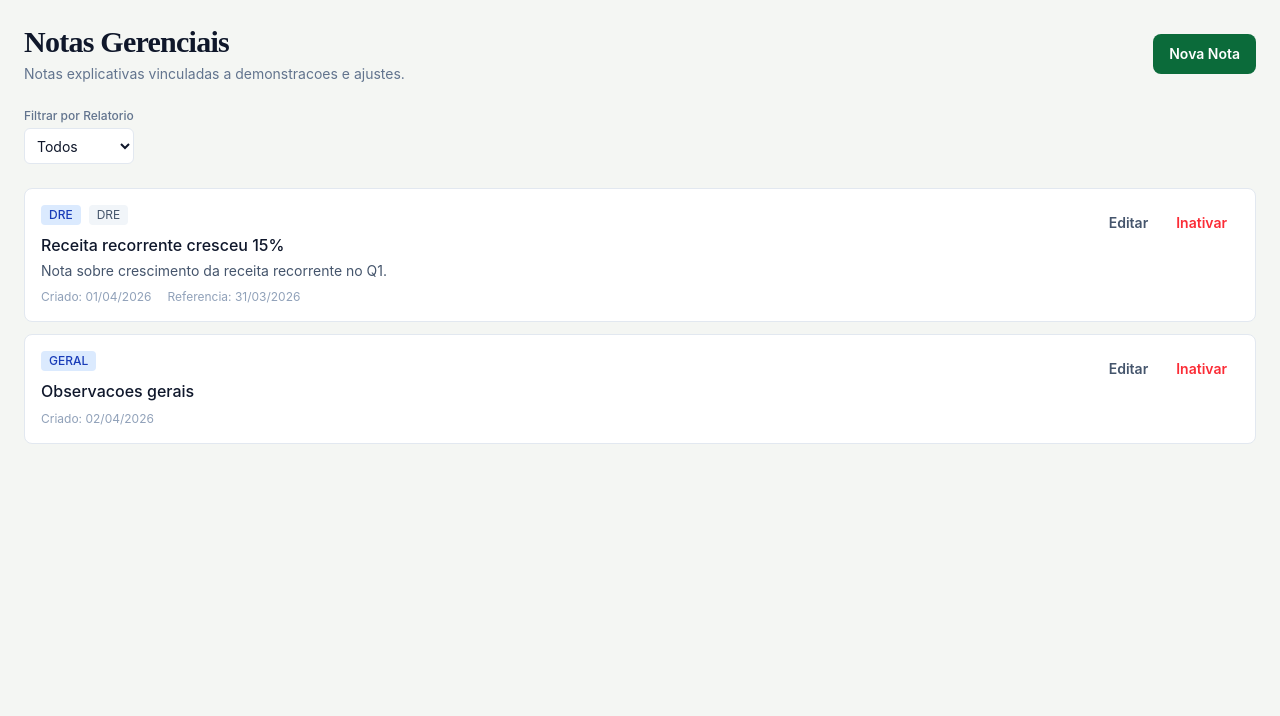
Test: NotesPage › shows form when Nova Nota button clicked
This screenshot has width=1280, height=716.
Step 1. Click the button "Nova Nota" → (1205, 54), box [1153,34,1256,74]
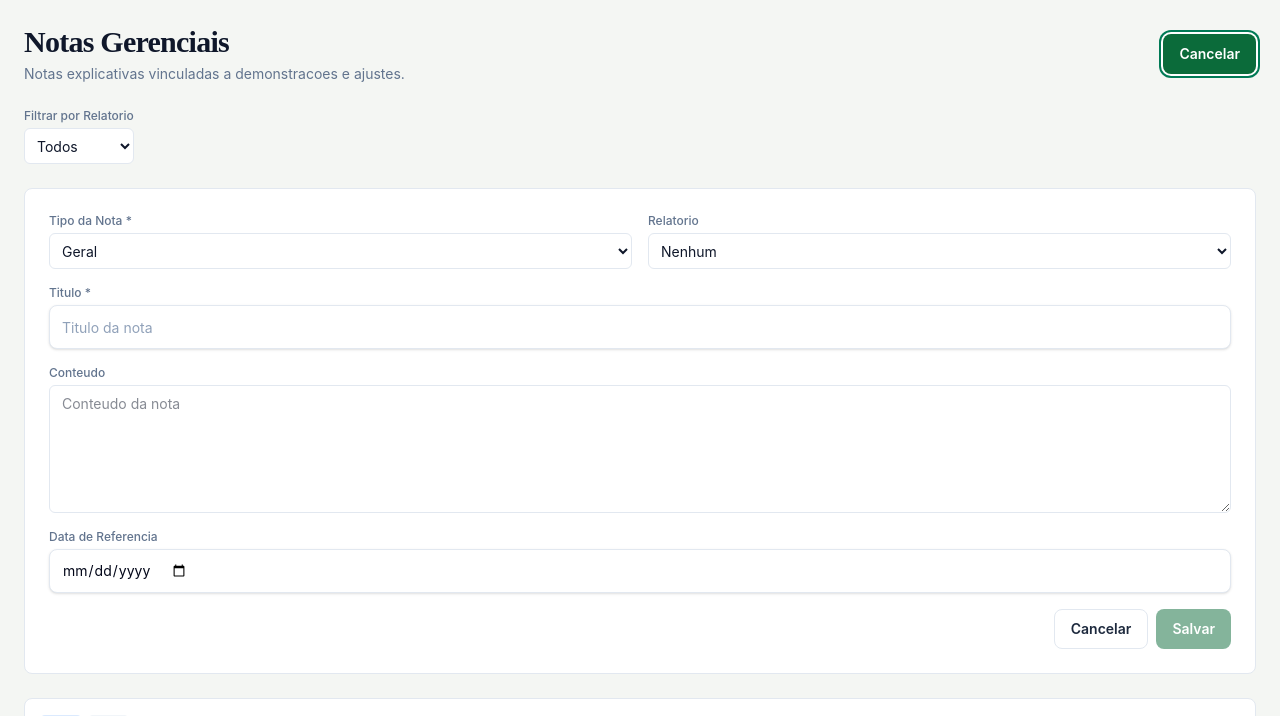
Expected: the text "Tipo da Nota *" is shown, [49,213,132,228]
Expected: the text "Titulo *" is shown, [49,285,91,300]
Expected: the text "Conteudo" is shown, [49,365,105,380]
